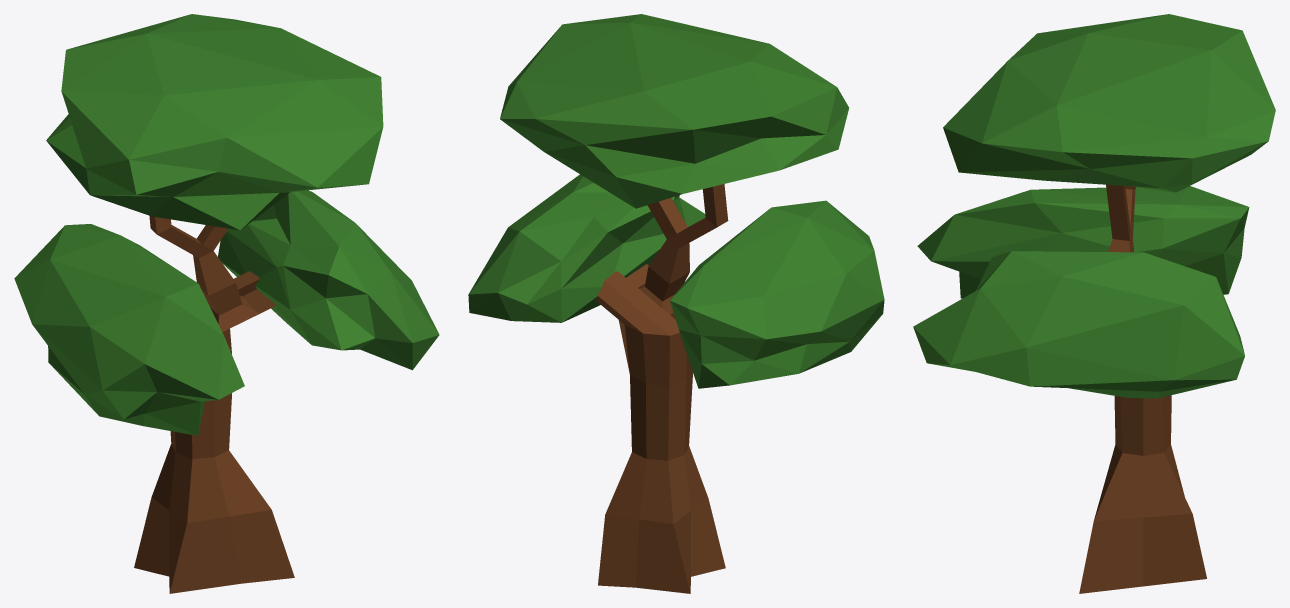
The model's file is tree3.fbx.
3 views of the same model, side by side, from view 1: azimuth 30°, elevation 25°; view 2: azimuth 150°, elevation 25°; view 3: azimuth 270°, elevation 25° (orthographic).
Visible parts, largest first — view 1: Cube; view 2: Cube; view 3: Cube.
Boxes of the visible parts, x1,y1,x2,y2 form: Cube: (14, 14, 439, 593); Cube: (468, 14, 884, 593); Cube: (913, 14, 1275, 593).
Size of the model in its own units: 8636 by 12961 by 8435.
